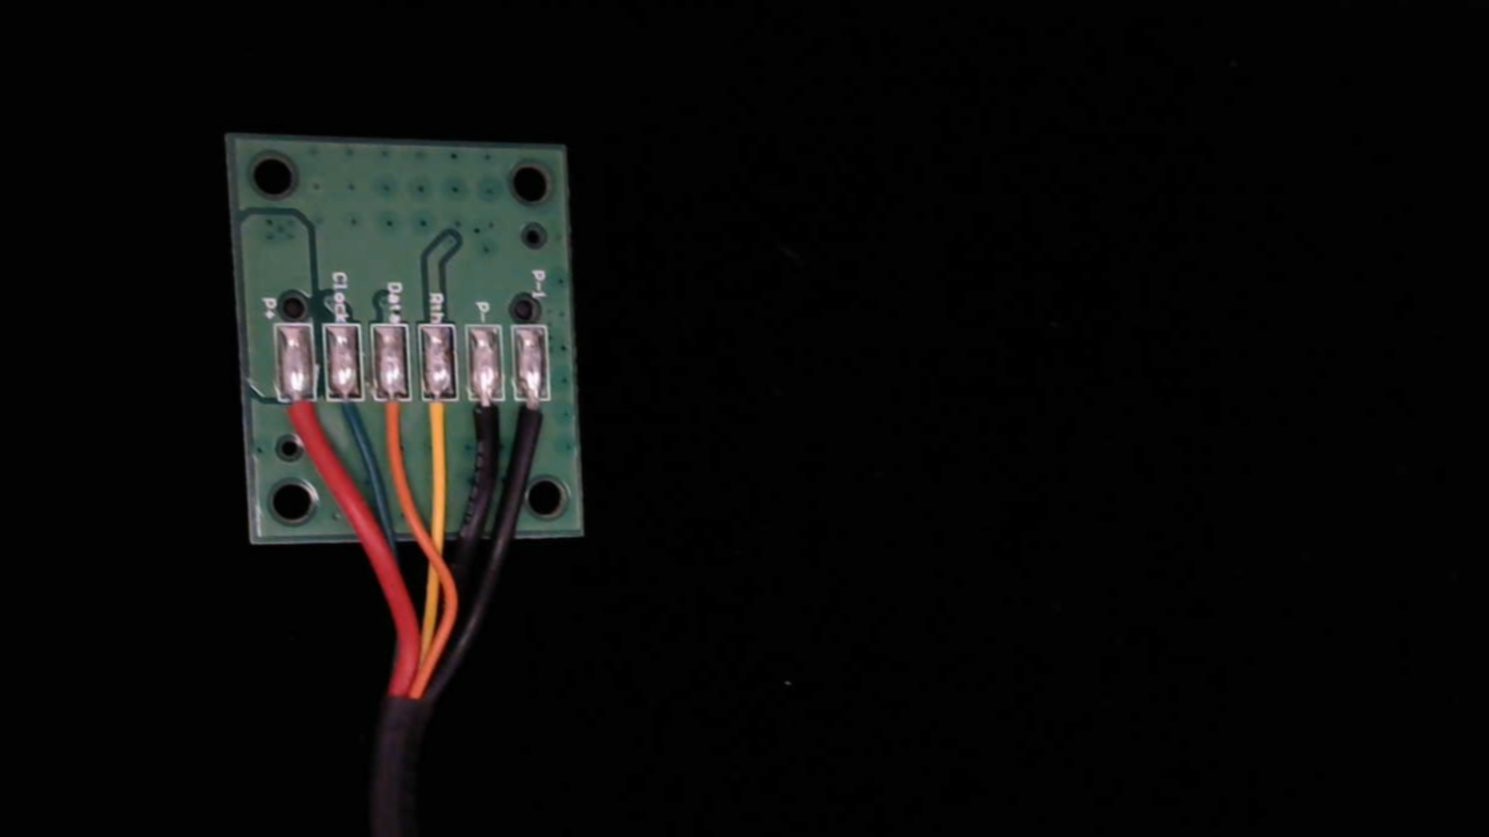Black: (463, 378, 507, 465)
Black1: (513, 381, 556, 460)
Green: (322, 376, 366, 459)
Orange: (374, 377, 416, 462)
Red: (275, 373, 319, 457)
Yellow: (417, 377, 461, 465)
